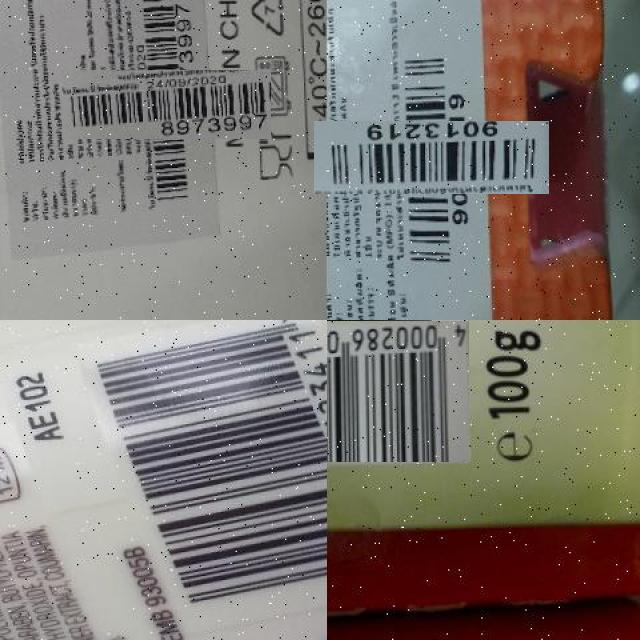Barcode: (75, 320, 326, 640), (354, 81, 509, 235), (326, 321, 469, 463), (96, 35, 236, 174)
